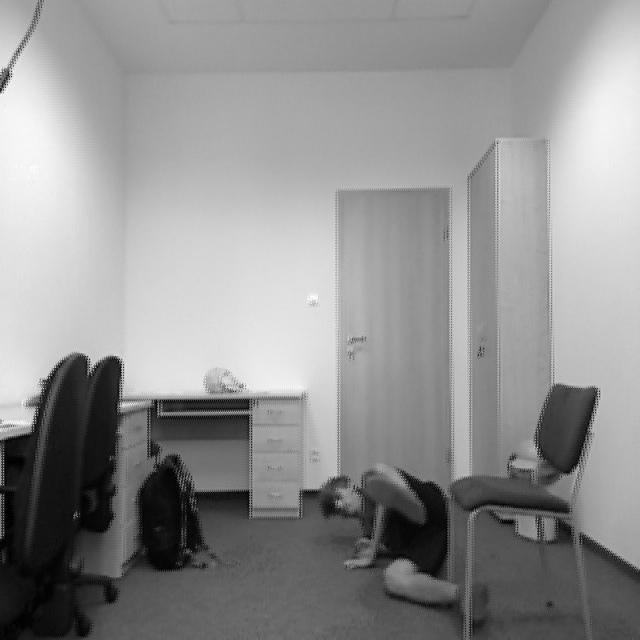lie: (318, 450, 482, 628)
